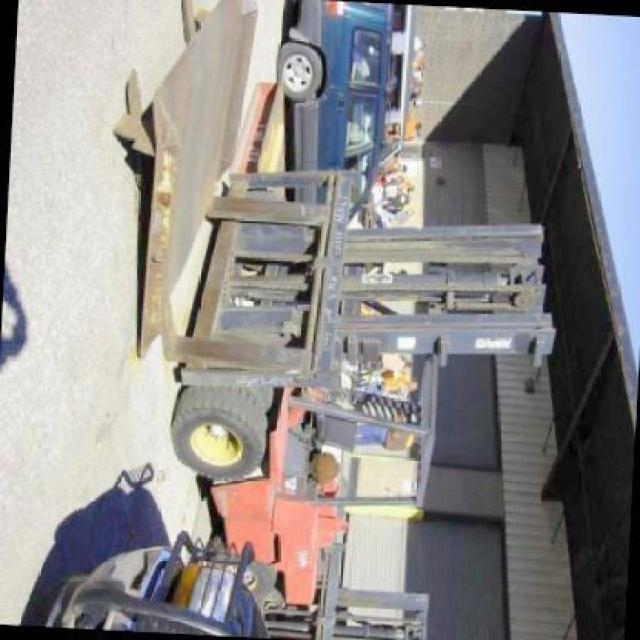forklift: (135, 3, 560, 626), (208, 386, 349, 613)
